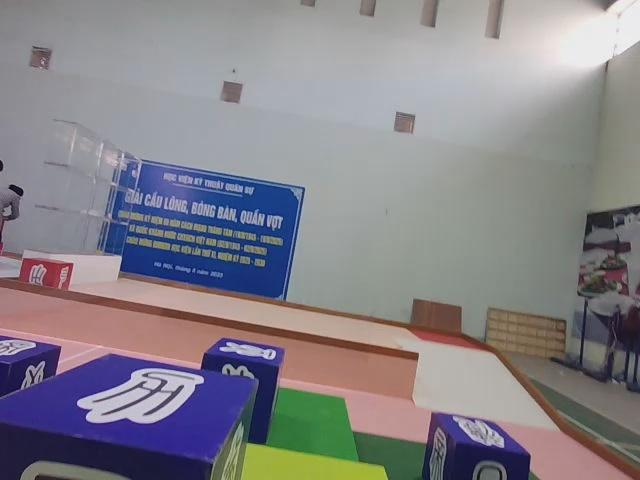R2 Fake Blue: (0, 354, 261, 480), (423, 411, 533, 479), (0, 336, 60, 409)
